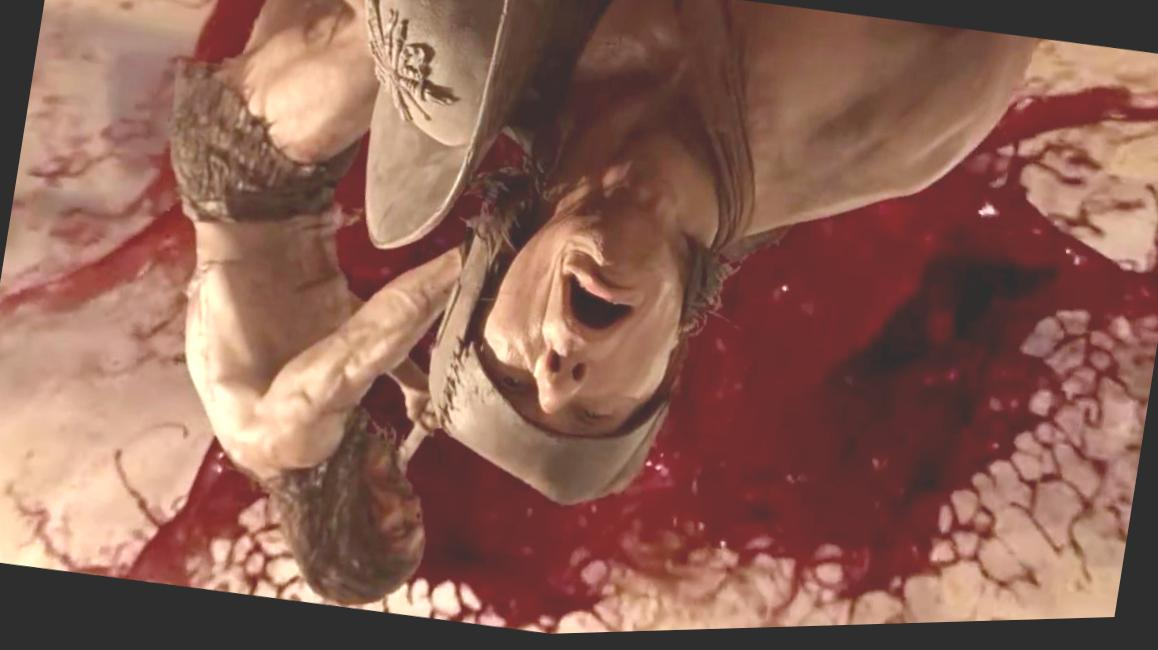Fire: (361, 45, 1158, 637), (0, 0, 325, 606)
